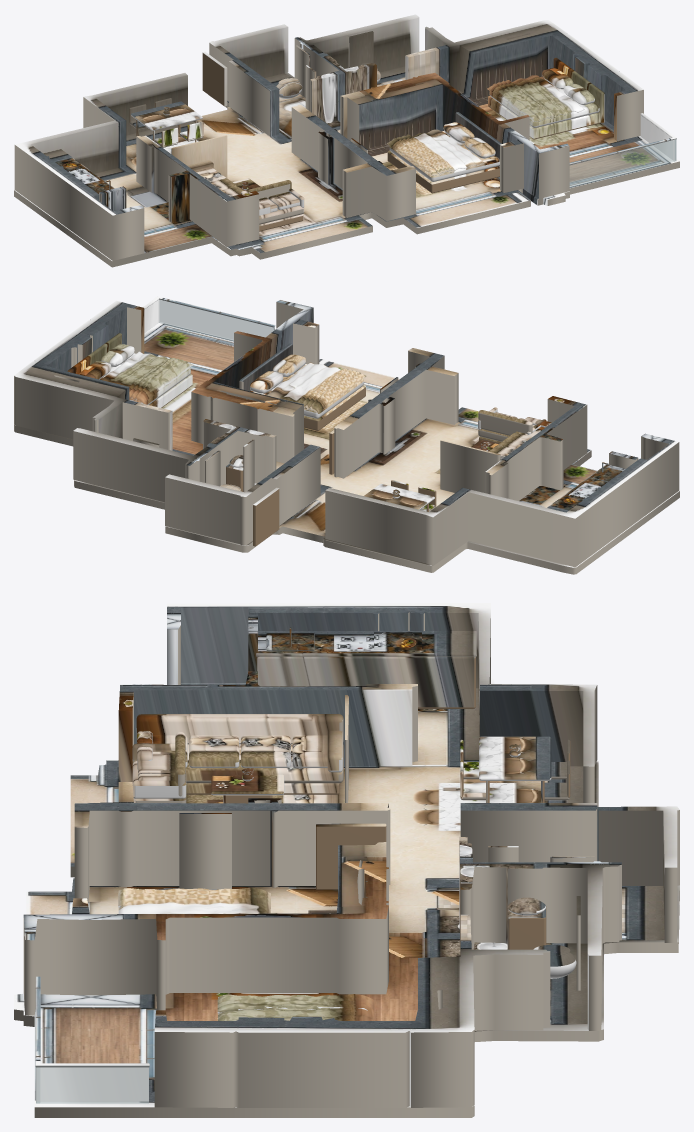
File: p2-06-u03-2110-image-model.glb
The picture shows the model from 3 angles, top to bottom: view 1: azimuth 30°, elevation 25°; view 2: azimuth 150°, elevation 25°; view 3: azimuth 270°, elevation 25°; orthographic projection. The views are drawn at different scales.
Visible parts, largest first — view 1: Partition walls, Apartment floor, Balcony glazing, Draped bed linen, Draped bed linen.002, Walnut upholstered base, Marble dining top, Walnut upholstered base.001, Open oak door, Piped mattress, Piped mattress.001, Draped bed linen.003 (+11 smaller); view 2: Partition walls, Apartment floor, Balcony glazing, Draped bed linen, Draped bed linen.002, Open oak door, Marble dining top, Sofa back.001, Draped bed linen.001, Draped bed linen.003, Walnut upholstered base, Stone worktop (+7 smaller); view 3: Partition walls, Apartment floor, Kitchen cabinets, Sofa back, Balcony glazing.001, Stone worktop, Marble dining top, Open oak door.001, Draped bed linen.003, Draped bed linen.001, Upholstered sofa frame, Draped bed linen (+9 smaller).
Part boxes in pixels (x1=…): Partition walls: x1=14, y1=14, x2=643, y2=260; Apartment floor: x1=14, y1=66, x2=679, y2=267; Balcony glazing: x1=569, y1=139, x2=675, y2=186; Draped bed linen: x1=387, y1=129, x2=484, y2=175; Draped bed linen.002: x1=487, y1=75, x2=584, y2=121; Walnut upholstered base: x1=387, y1=150, x2=499, y2=193; Marble dining top: x1=131, y1=101, x2=202, y2=130; Walnut upholstered base.001: x1=488, y1=96, x2=600, y2=139; Open oak door: x1=202, y1=51, x2=227, y2=106; Piped mattress: x1=389, y1=131, x2=499, y2=181; Piped mattress.001: x1=489, y1=76, x2=599, y2=127; Draped bed linen.003: x1=492, y1=80, x2=554, y2=120; Partition walls: x1=14, y1=300, x2=679, y2=567; Apartment floor: x1=14, y1=322, x2=679, y2=574; Balcony glazing: x1=159, y1=299, x2=274, y2=340; Draped bed linen: x1=266, y1=362, x2=366, y2=413; Draped bed linen.002: x1=101, y1=351, x2=193, y2=403; Open oak door: x1=253, y1=487, x2=279, y2=546; Marble dining top: x1=364, y1=483, x2=434, y2=509; Sofa back.001: x1=478, y1=410, x2=532, y2=435; Draped bed linen.001: x1=297, y1=368, x2=360, y2=410; Draped bed linen.003: x1=129, y1=358, x2=187, y2=400; Walnut upholstered base: x1=304, y1=385, x2=365, y2=430; Stone worktop: x1=547, y1=464, x2=625, y2=512; Partition walls: x1=23, y1=603, x2=679, y2=1107; Apartment floor: x1=14, y1=678, x2=679, y2=1117; Kitchen cabinets: x1=256, y1=656, x2=475, y2=708; Sofa back: x1=136, y1=714, x2=343, y2=744; Balcony glazing.001: x1=36, y1=1067, x2=148, y2=1103; Stone worktop: x1=256, y1=631, x2=476, y2=656; Marble dining top: x1=479, y1=736, x2=551, y2=780; Open oak door.001: x1=316, y1=823, x2=386, y2=889; Draped bed linen.003: x1=217, y1=994, x2=374, y2=1014; Draped bed linen.001: x1=118, y1=887, x2=270, y2=908; Upholstered sofa frame: x1=185, y1=744, x2=343, y2=783; Draped bed linen: x1=118, y1=888, x2=270, y2=913.
Size of the model in its own units: 13.94 by 1.3 by 9.12.
Materials: 14 (3 with a texture image).
